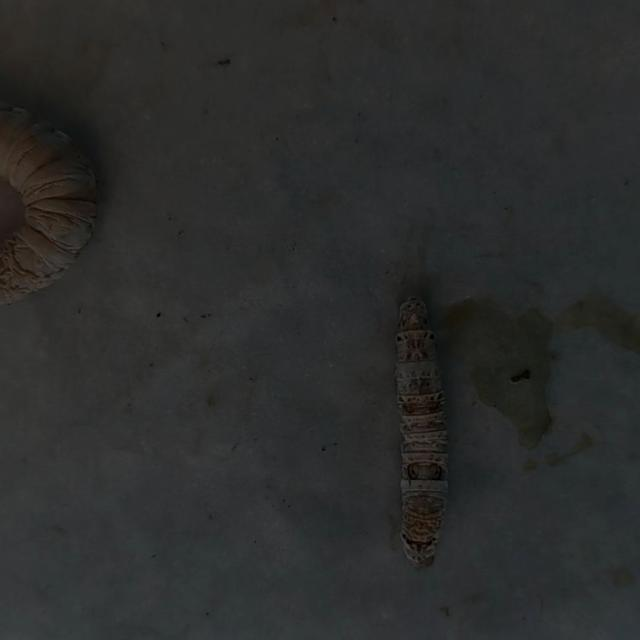Grasserie: (348, 254, 486, 586)
